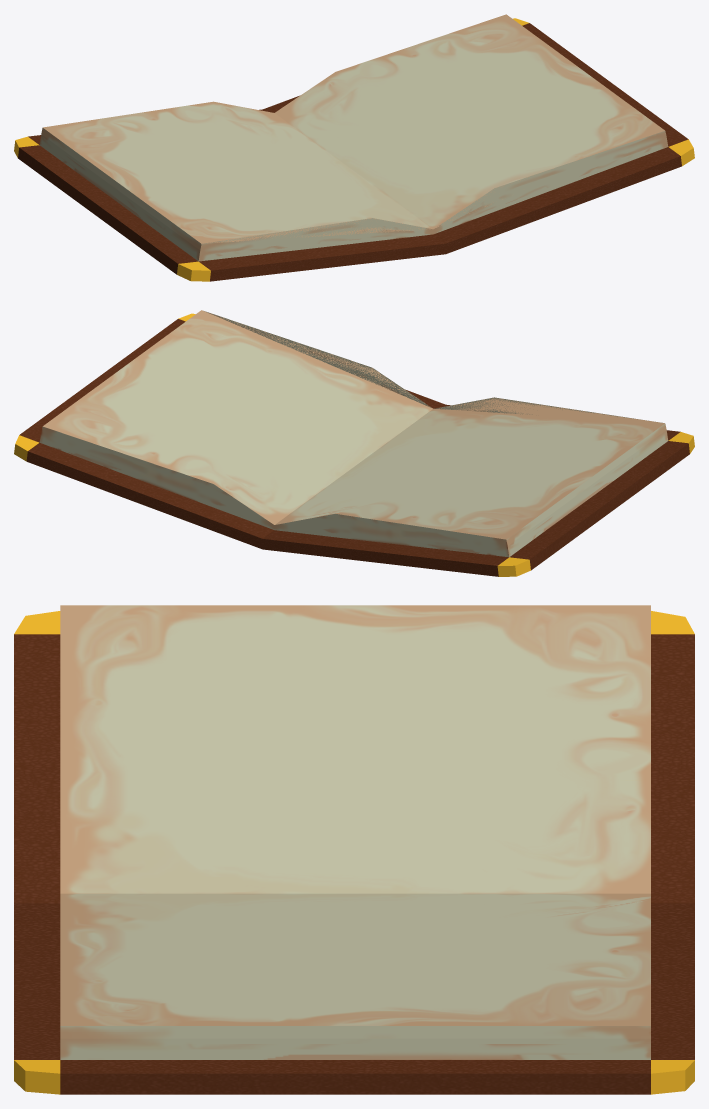
Rendered from Book.fbx.
The picture shows the model from 3 angles, top to bottom: view 1: azimuth 30°, elevation 25°; view 2: azimuth 150°, elevation 25°; view 3: azimuth 270°, elevation 25°; orthographic projection. The views are drawn at different scales.
Parts seen in each view (by area): view 1: Book; view 2: Book; view 3: Book.
Boxes of the visible parts, x1,y1,x2,y2 form: Book: [14, 14, 694, 281]; Book: [14, 310, 694, 576]; Book: [14, 605, 694, 1094].
Size of the model in its own units: 3.23 by 0.3482 by 2.
